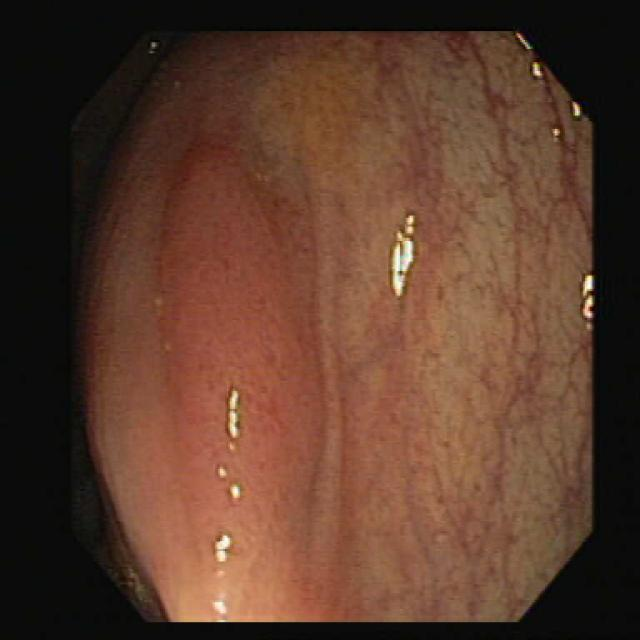tumor: (160, 147, 297, 569)
